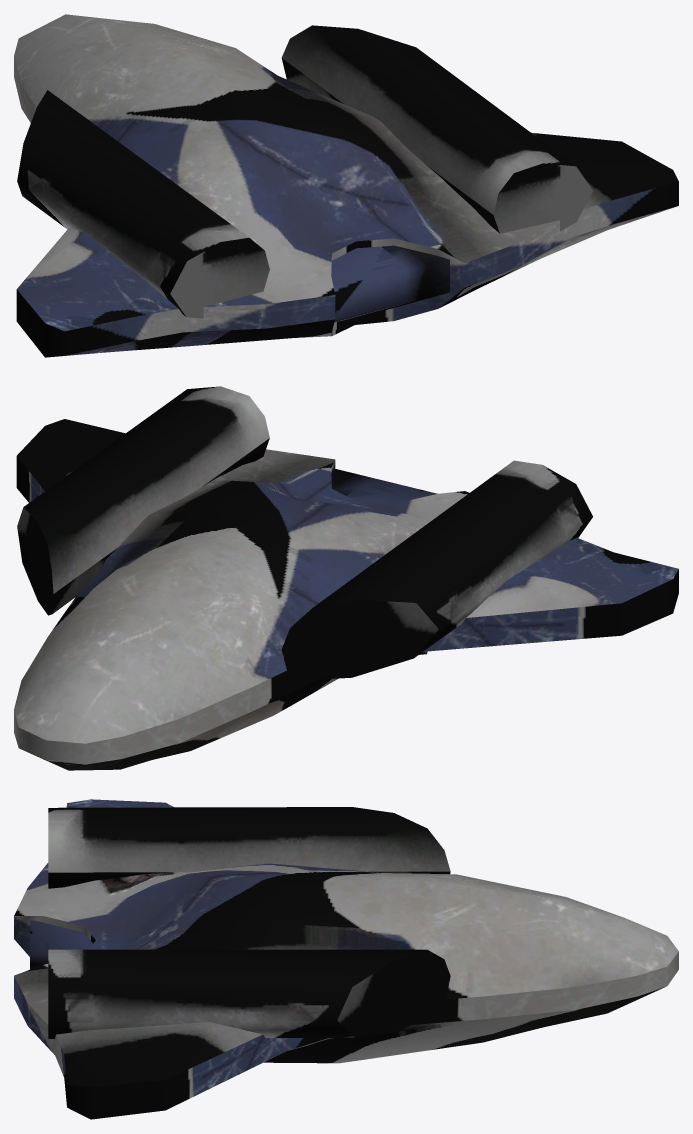
Rendered from ship08.fbx.
3 views of the same model, one above another, from view 1: azimuth 30°, elevation 25°; view 2: azimuth 150°, elevation 25°; view 3: azimuth 270°, elevation 25° (orthographic). The views are drawn at different scales.
Parts seen in each view (by area): view 1: PipelineFBX; view 2: PipelineFBX; view 3: PipelineFBX.
Part boxes in pixels (x1,y1,x2,y2): PipelineFBX: (14,14,678,357); PipelineFBX: (14,386,678,770); PipelineFBX: (14,799,678,1119).
Bounding box in the file's own units: 53.53 × 15.44 × 52.26.
1 material, 1 textured.
